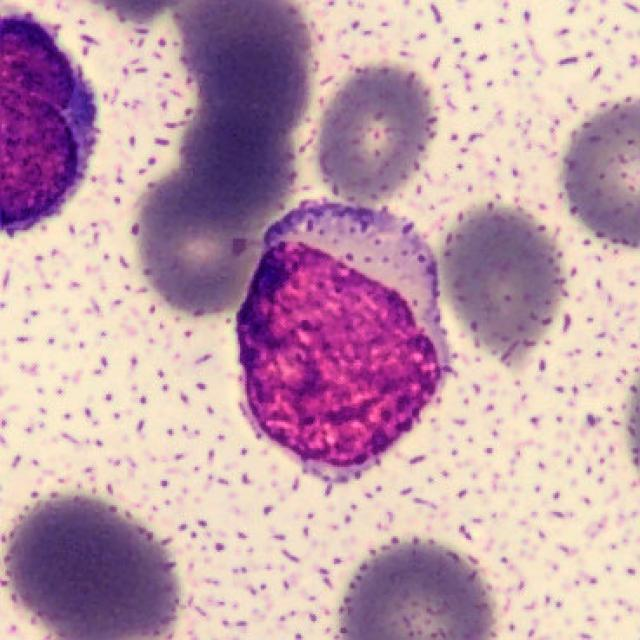Mieloblasto: (235, 199, 452, 476)
